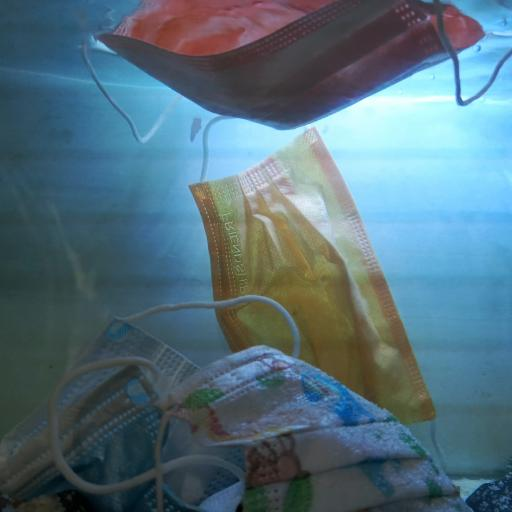mask: (188, 124, 437, 427), (1, 293, 301, 512), (79, 0, 511, 128), (153, 342, 474, 512)
